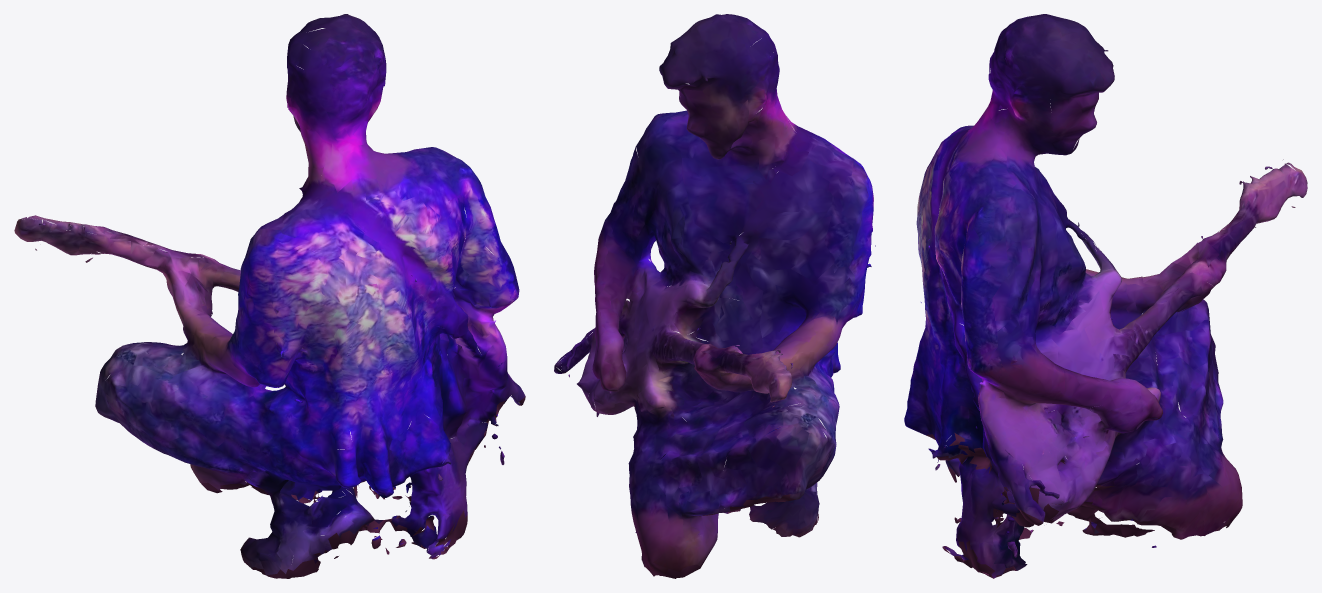
The model's file is raf_opt.glb.
3 renders of one model, left to right at view 1: azimuth 30°, elevation 25°; view 2: azimuth 150°, elevation 25°; view 3: azimuth 270°, elevation 25°, orthographic. The views are drawn at different scales.
Bounding box in the file's own units: 2.48 × 3.26 × 2.28.
Materials: 7 (7 with a texture image).
